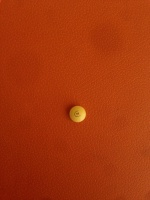Nurofen: (68, 105, 87, 123)
